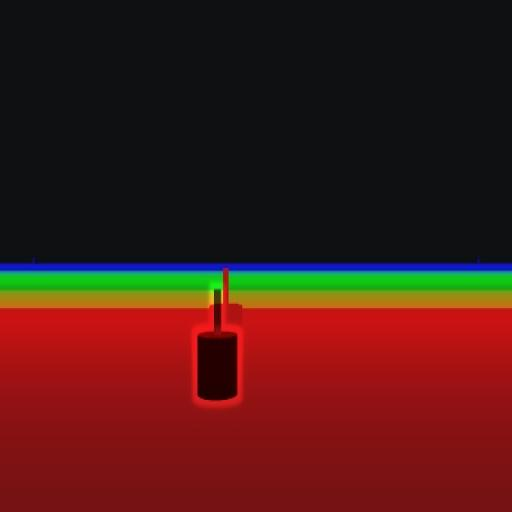floating_obstacle: (197, 286, 239, 402)
